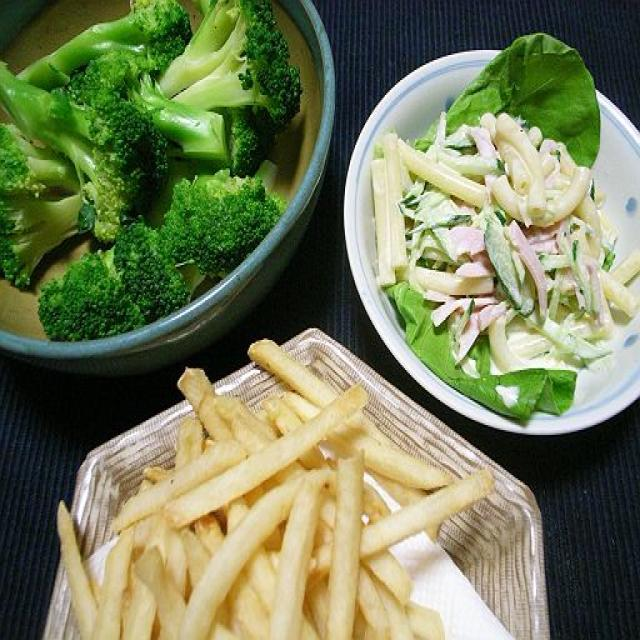French Fries: (56, 350, 486, 640)
